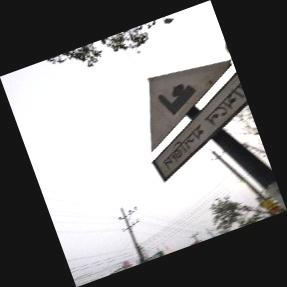Mosque in front: (143, 53, 246, 181)
